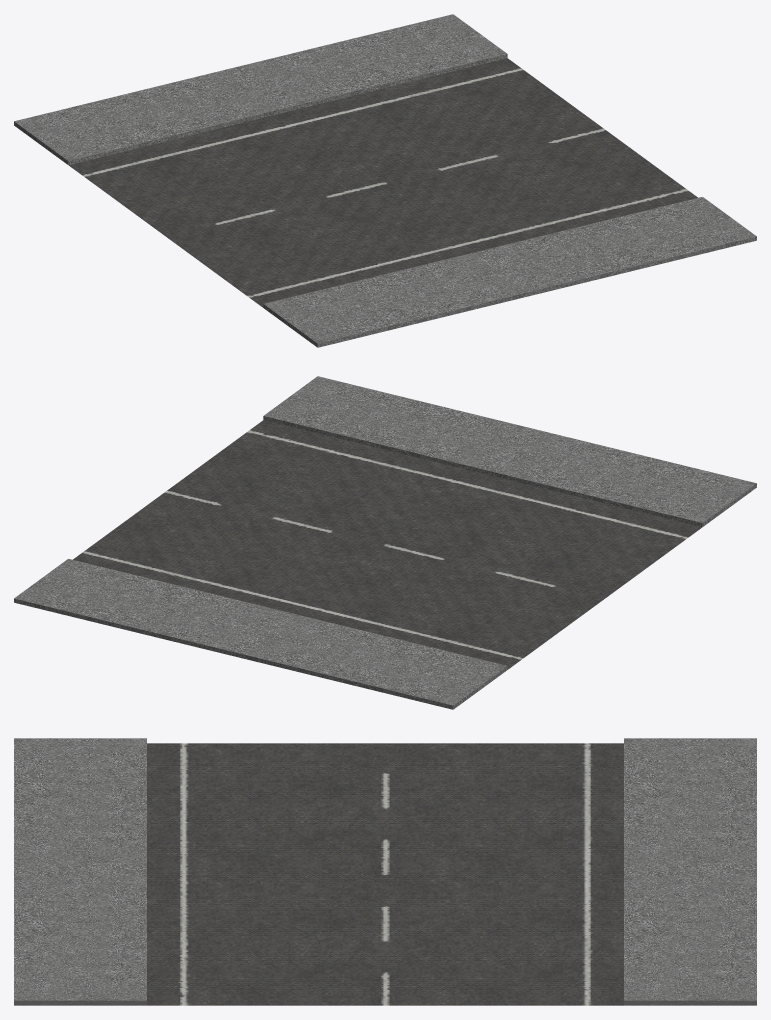
The model's file is Road_Straight.obj.
3 views of the same model, one above another, from view 1: azimuth 30°, elevation 25°; view 2: azimuth 150°, elevation 25°; view 3: azimuth 270°, elevation 25° (orthographic). The views are drawn at different scales.
Visible parts, largest first — view 1: Road_Straight; view 2: Road_Straight; view 3: Road_Straight.
Boxes of the visible parts, x1,y1,x2,y2 form: Road_Straight: [14, 14, 756, 347]; Road_Straight: [14, 376, 756, 709]; Road_Straight: [14, 738, 756, 1005].
Bounding box in the file's own units: 13 × 0.1182 × 15.57.
